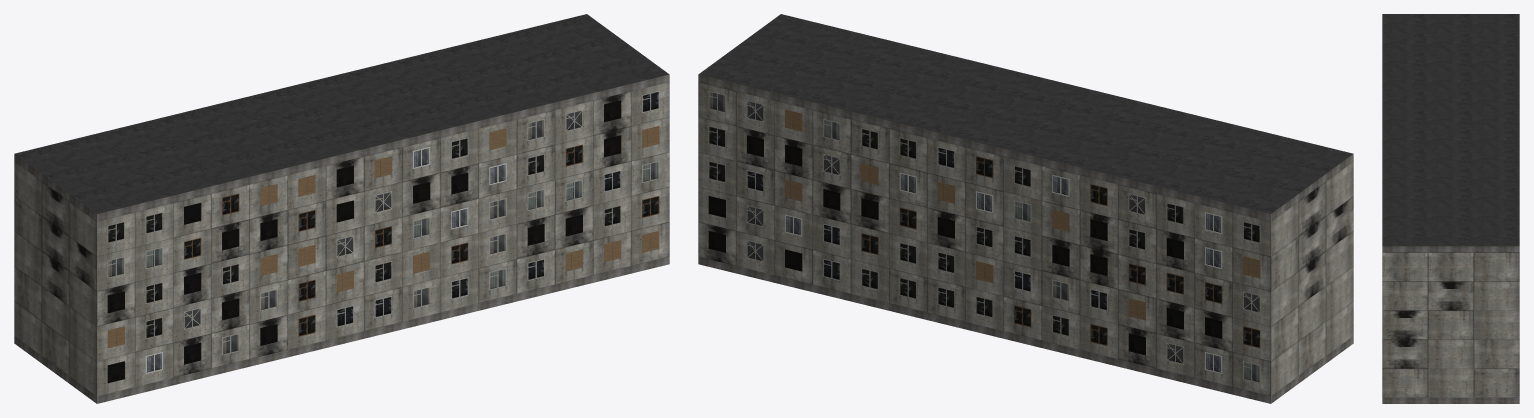
The model's file is S1U_Skyline_KH.fbx.
3 renders of one model, left to right at view 1: azimuth 30°, elevation 25°; view 2: azimuth 150°, elevation 25°; view 3: azimuth 270°, elevation 25°, orthographic. The views are drawn at different scales.
Parts seen in each view (by area): view 1: S1U_Skyline_KH; view 2: S1U_Skyline_KH; view 3: S1U_Skyline_KH.
Boxes of the visible parts, x1,y1,x2,y2 form: S1U_Skyline_KH: (14, 14, 669, 403); S1U_Skyline_KH: (698, 14, 1353, 403); S1U_Skyline_KH: (1382, 14, 1519, 403).
Bounding box in the file's own units: 48 × 15.2 × 12.04.
